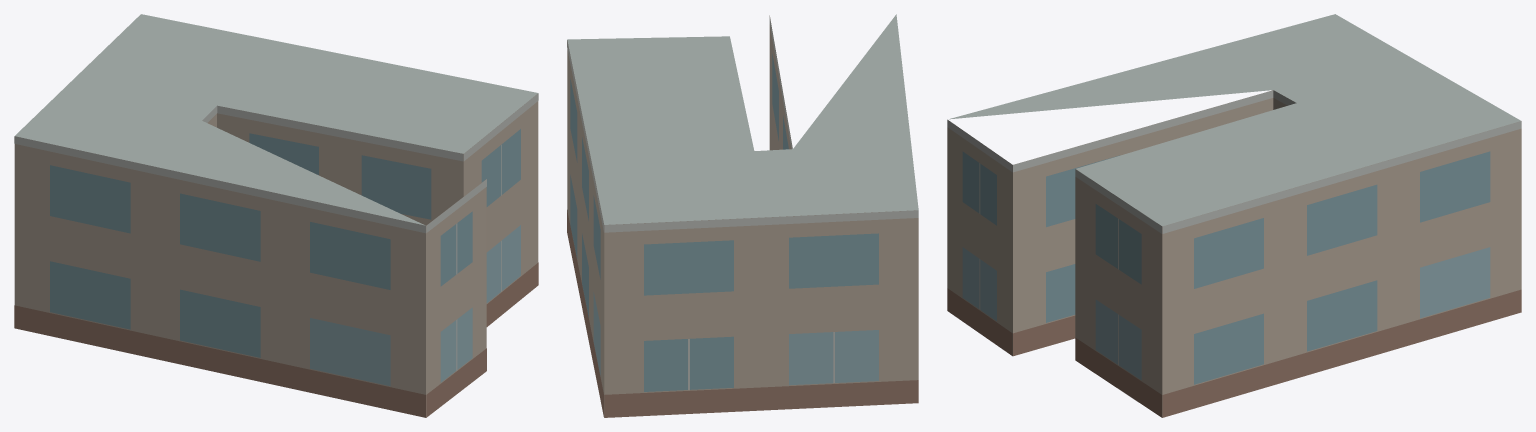
Rendered from survey-upis-32763303.glb.
3 renders of one model, left to right at view 1: azimuth 30°, elevation 25°; view 2: azimuth 150°, elevation 25°; view 3: azimuth 270°, elevation 25°, orthographic.
Visible parts, largest first — view 1: survey-upis-32763303.tmp; view 2: survey-upis-32763303.tmp; view 3: survey-upis-32763303.tmp.
Part boxes in pixels (x1,y1,x2,y2): survey-upis-32763303.tmp: (14, 14, 538, 417); survey-upis-32763303.tmp: (567, 14, 918, 417); survey-upis-32763303.tmp: (947, 14, 1521, 417).
Bounding box in the file's own units: 14.53 × 6.1 × 16.59.
